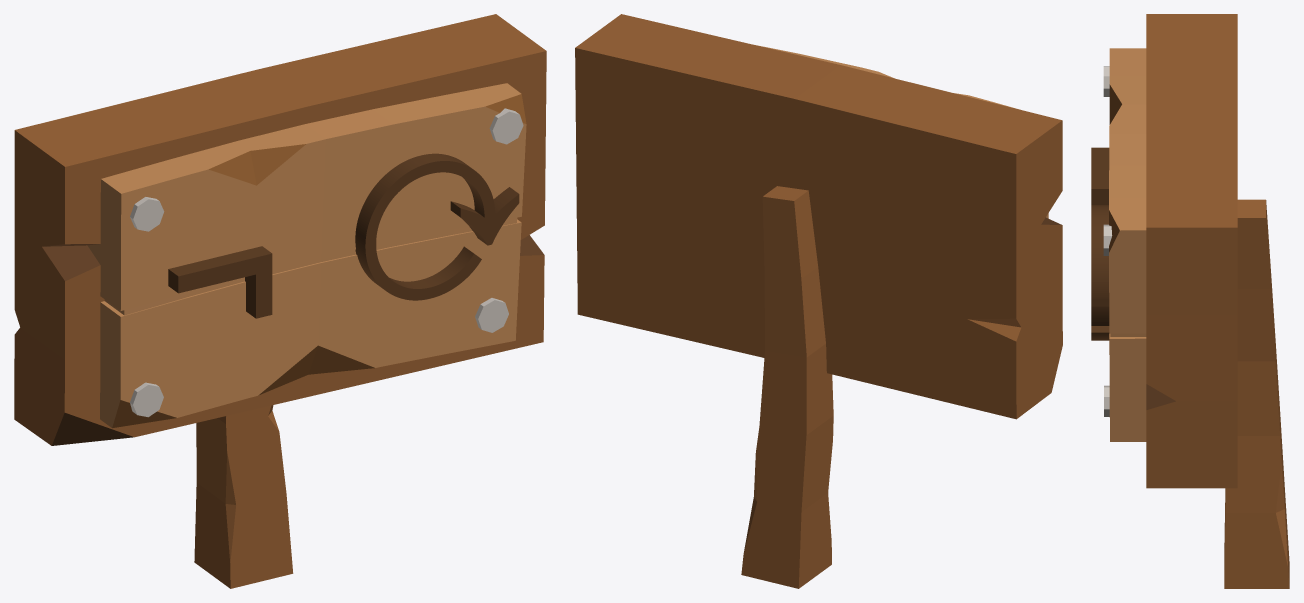
File: SIGN.fbx
3 renders of one model, left to right at view 1: azimuth 30°, elevation 25°; view 2: azimuth 150°, elevation 25°; view 3: azimuth 270°, elevation 25°, orthographic. The views are drawn at different scales.
Parts seen in each view (by area): view 1: Cube.037; view 2: Cube.037; view 3: Cube.037.
Part boxes in pixels (bbox=[...]): Cube.037: bbox=[14, 14, 546, 588]; Cube.037: bbox=[575, 14, 1062, 588]; Cube.037: bbox=[1091, 14, 1289, 588].
Size of the model in its own units: 717 by 719 by 282.
